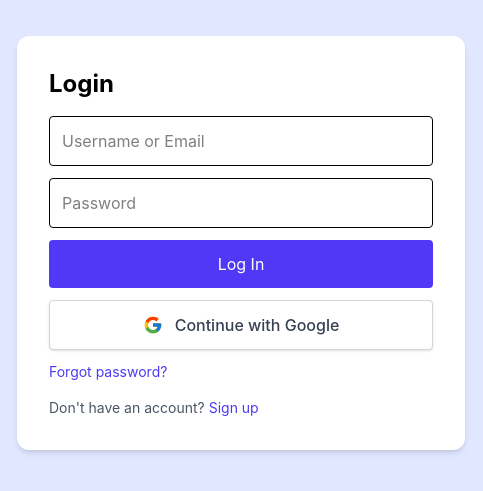
Test: Login e2e › shows an error for invalid credentials
Type "123" into the field with placeholder "Username or Email".
click(241, 141); type("123")  # box [49,116,433,166]
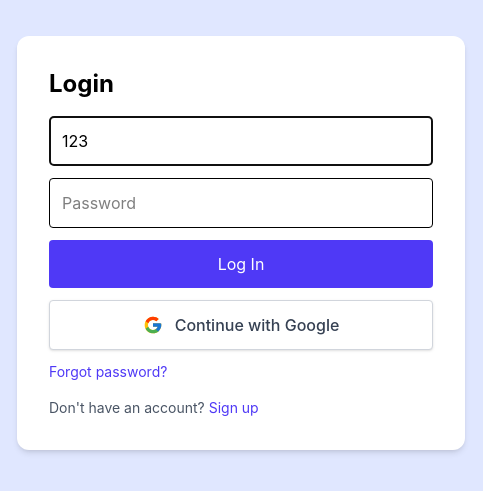
Type "wrong-password" into the password field with placeholder "Password".
click(241, 203); type("wrong-password")  # box [49,178,433,228]
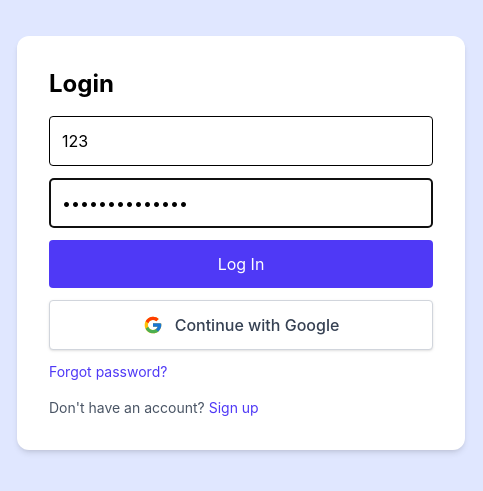
Click the button "Log In".
click(241, 264)  # box [49,240,433,288]
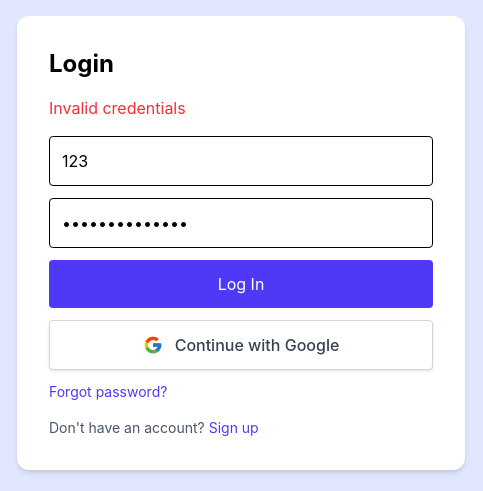
Expected: the text "Invalid credentials" is shown, [49,98,186,118]
